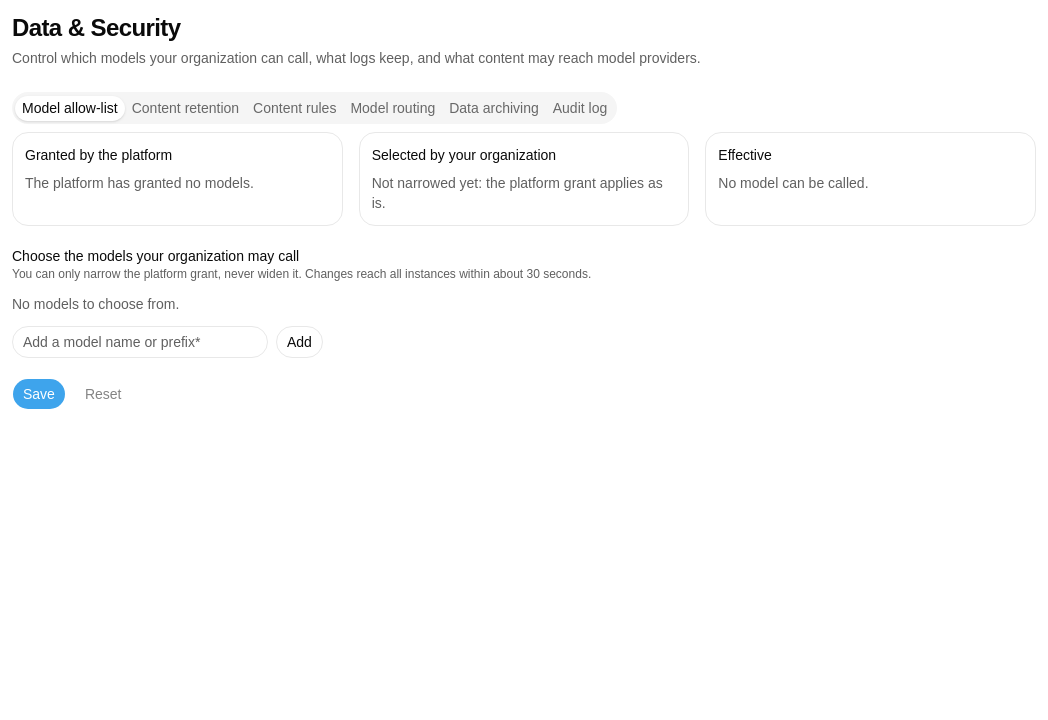
strategy selector › switching back to decision keeps what was typed
This screenshot has width=1048, height=720.
Click the tab "Model routing" at (393, 108), box [343,96,442,120]
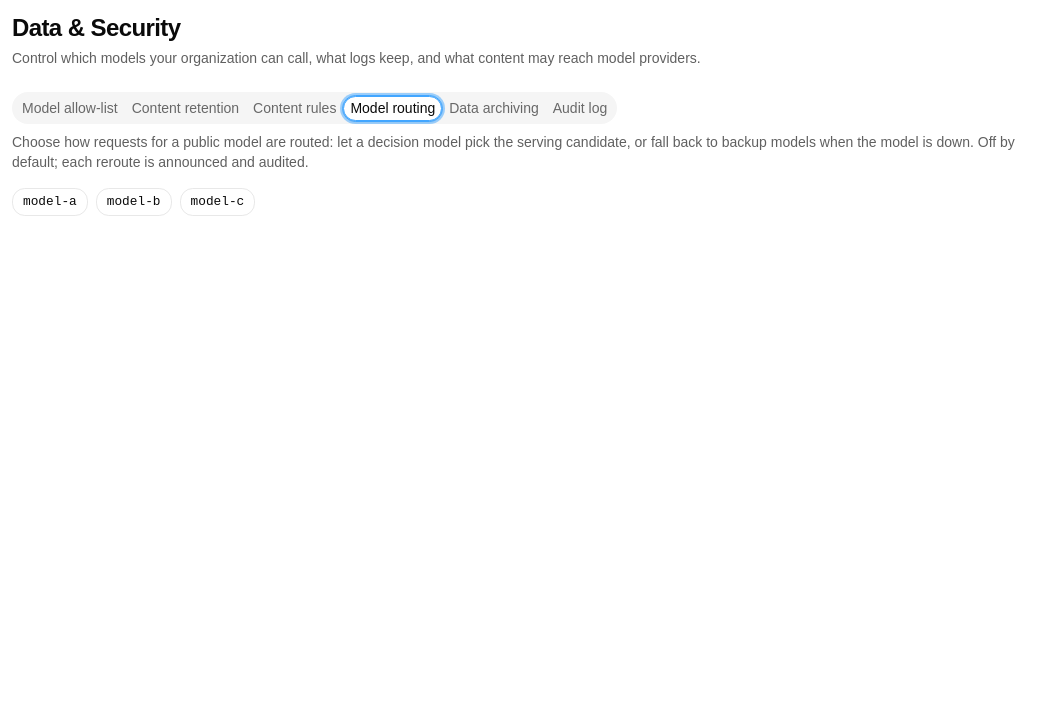
Click the button "model-a" at (50, 202), box [12,188,88,216]
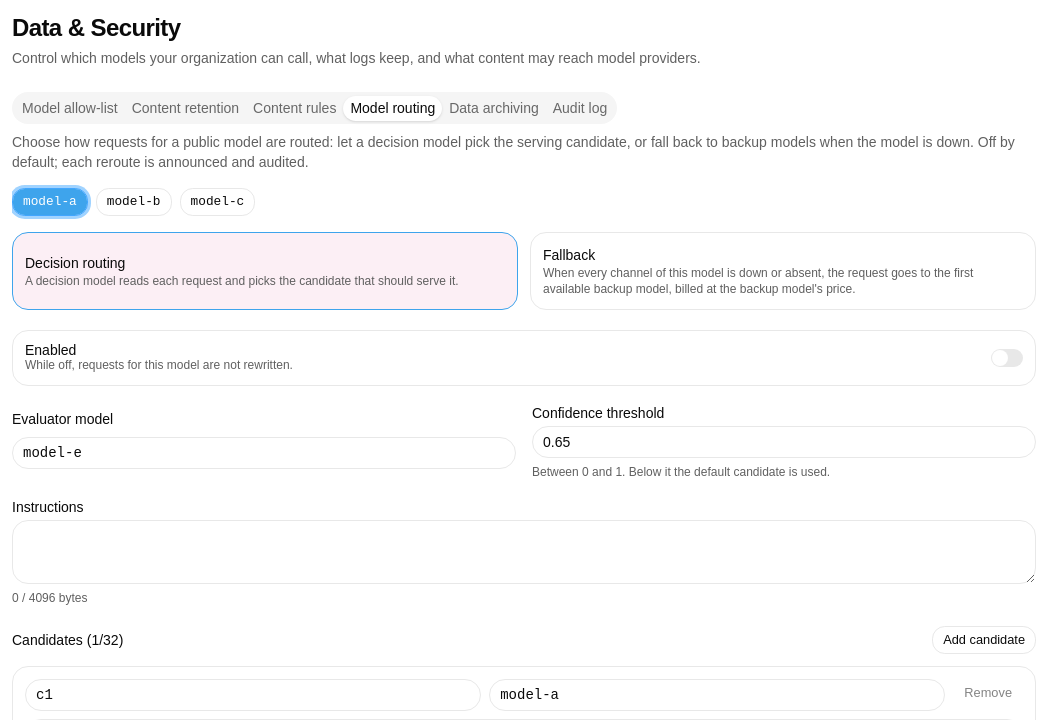
Replace the text in the field labelled "Evaluator model" with "model-z" at (264, 453), box [12,437,516,469]
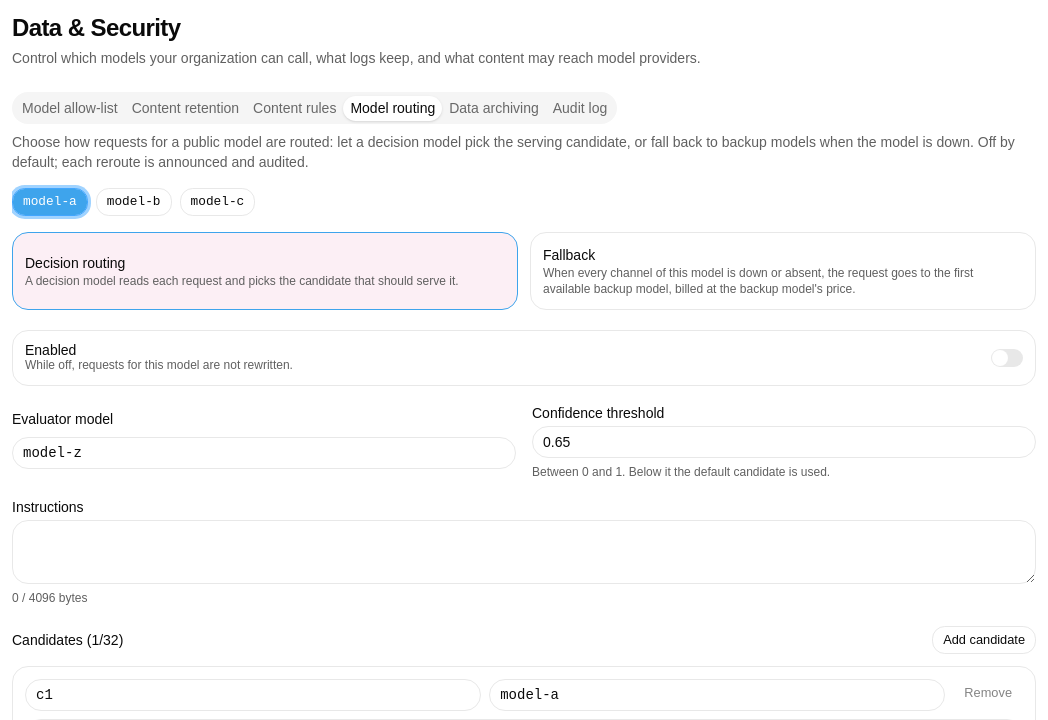
Click the radio button labelled "Fallback" at (783, 271), box [530,232,1036,310]
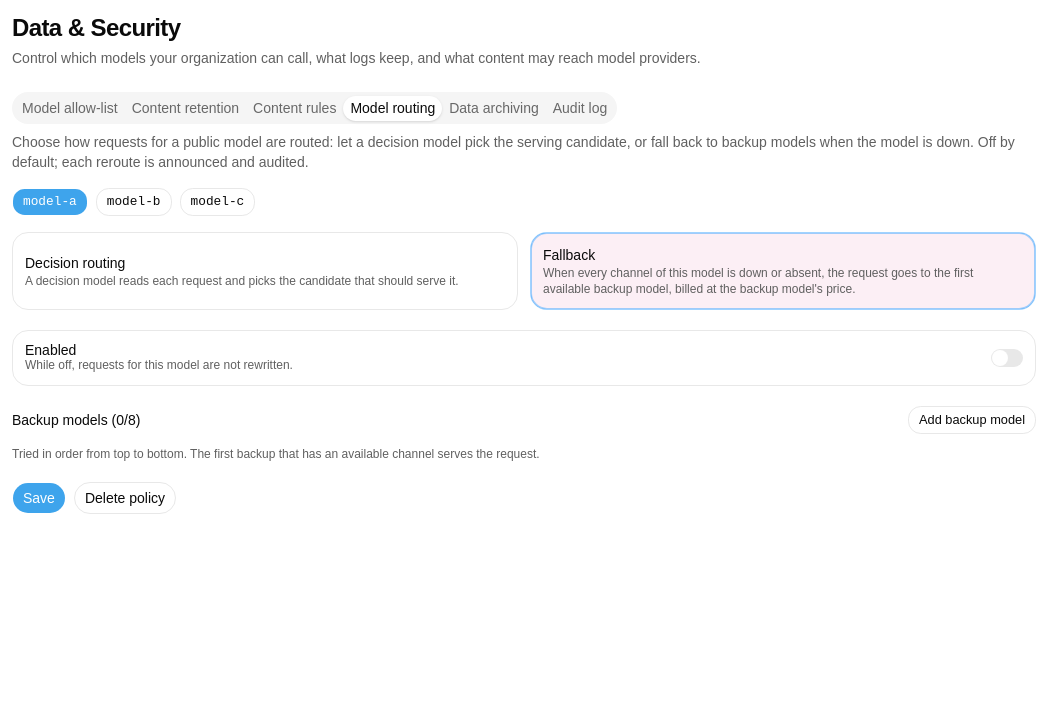
Click the radio button labelled "Decision routing" at (265, 271), box [12,232,518,310]
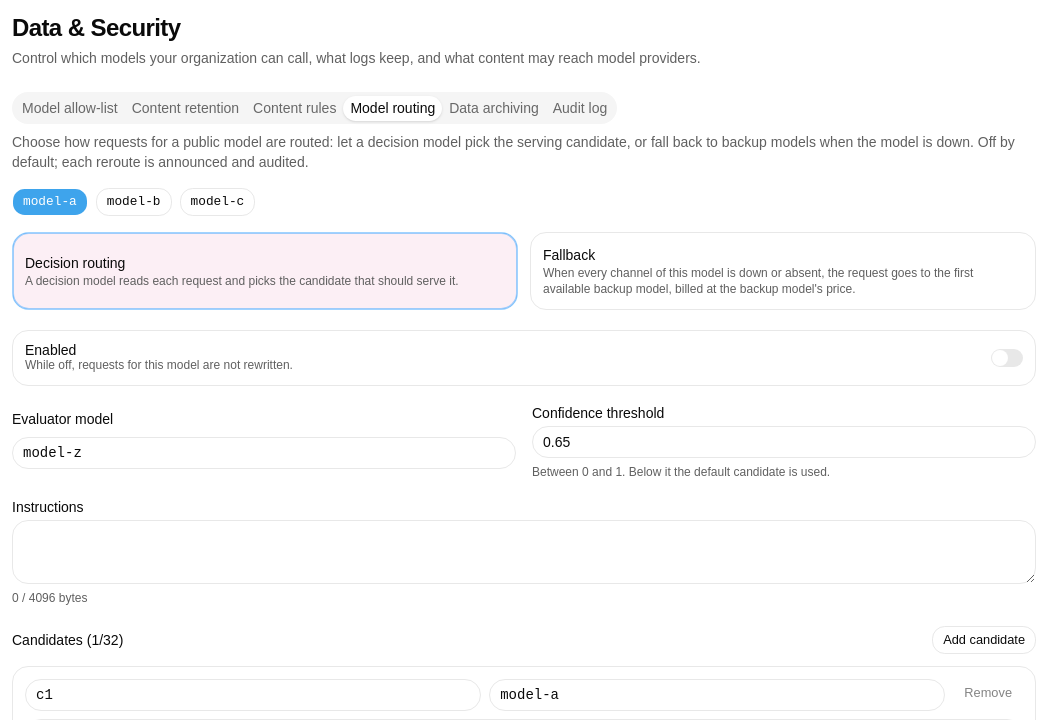
Now the field labelled "Evaluator model" holds "model-z", box [12,437,516,469]
